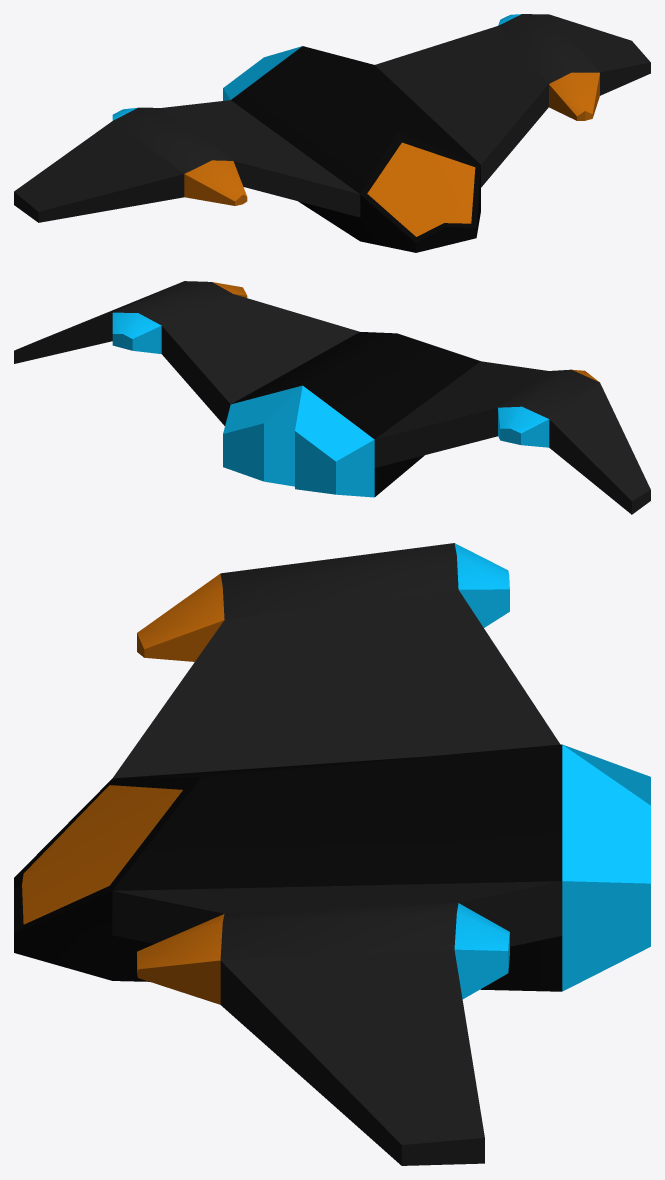
Rendered from PlayerShip.FBX.
3 renders of one model, top to bottom at view 1: azimuth 30°, elevation 25°; view 2: azimuth 150°, elevation 25°; view 3: azimuth 270°, elevation 25°, orthographic. The views are drawn at different scales.
Parts seen in each view (by area): view 1: PlayerShip; view 2: PlayerShip; view 3: PlayerShip.
Boxes of the visible parts, <box> form: PlayerShip: <box>14,14,650,252</box>; PlayerShip: <box>14,281,650,514</box>; PlayerShip: <box>14,543,650,1165</box>.
Size of the model in its own units: 111 by 18.56 by 52.09.
